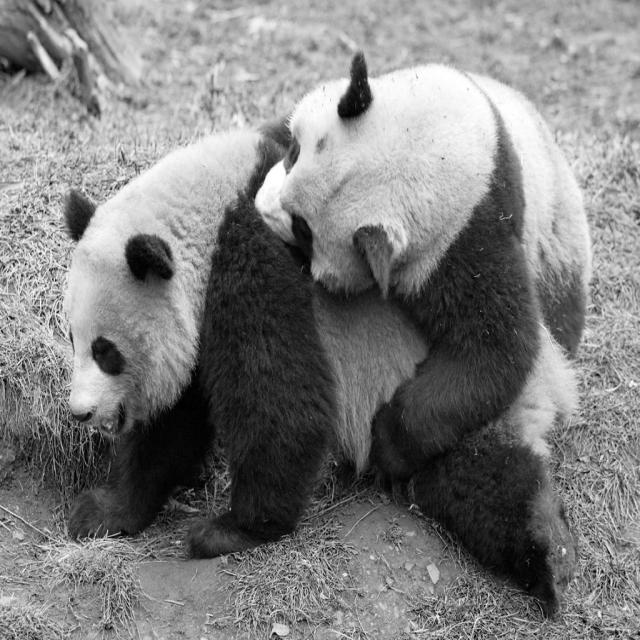panda: (64, 123, 574, 567), (252, 47, 588, 477)
